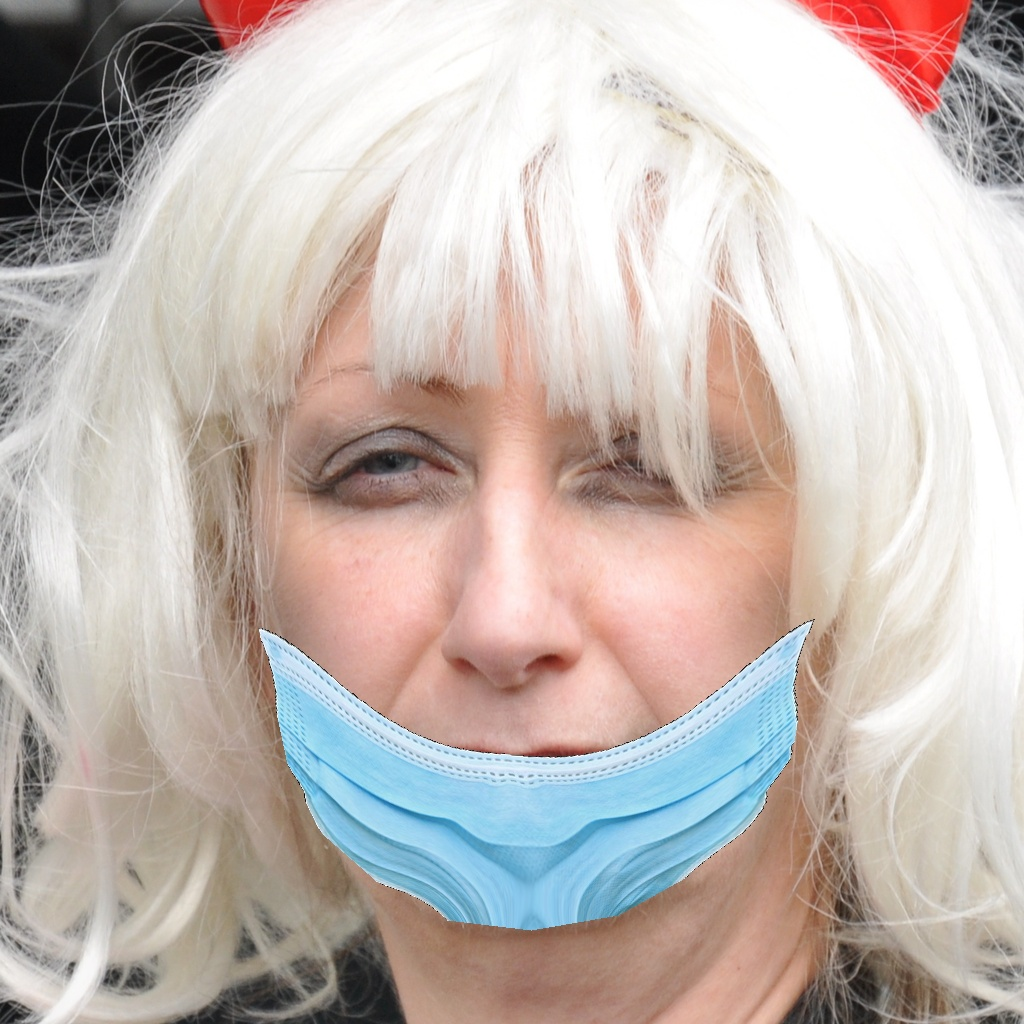mascarilla_mal_puesta: (182, 355, 907, 973)
